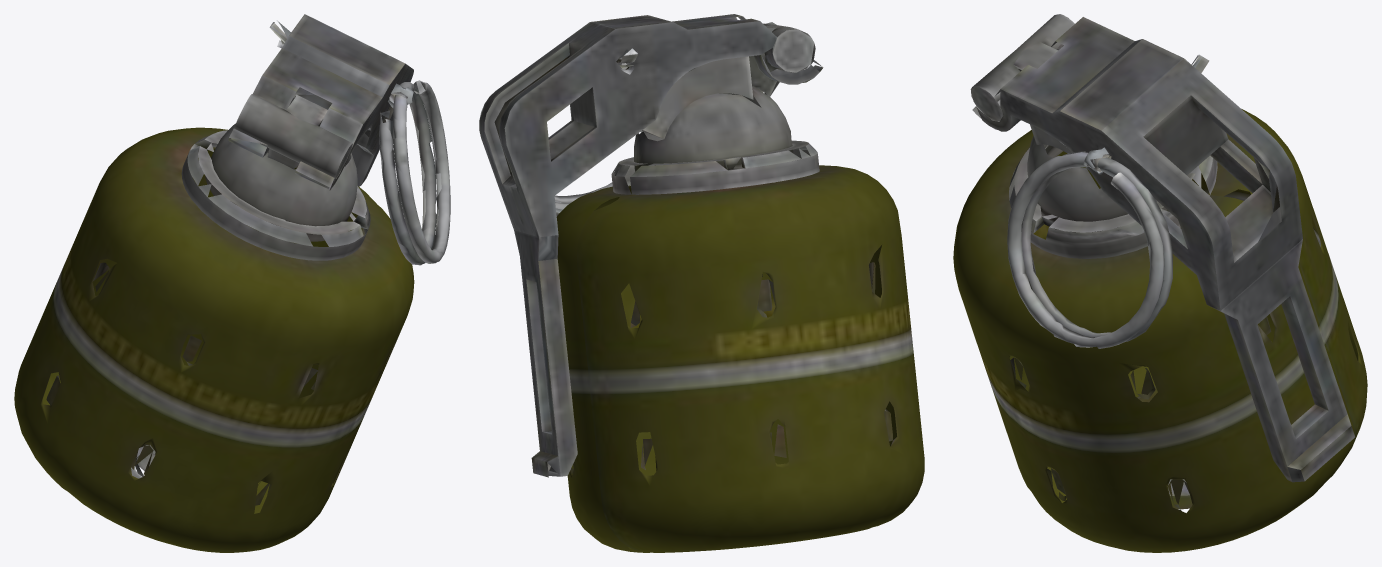
The model's file is g_decoy_lo.glb.
3 renders of one model, left to right at view 1: azimuth 30°, elevation 25°; view 2: azimuth 150°, elevation 25°; view 3: azimuth 270°, elevation 25°, orthographic. The views are drawn at different scales.
Parts seen in each view (by area): view 1: merged; view 2: merged; view 3: merged.
Boxes of the visible parts, x1,y1,x2,y2 form: merged: (14,14,450,552); merged: (479,14,924,552); merged: (953,14,1367,552).
Bounding box in the file's own units: 0.1626 × 0.1871 × 0.1366.
Materials: 1 (1 with a texture image).
